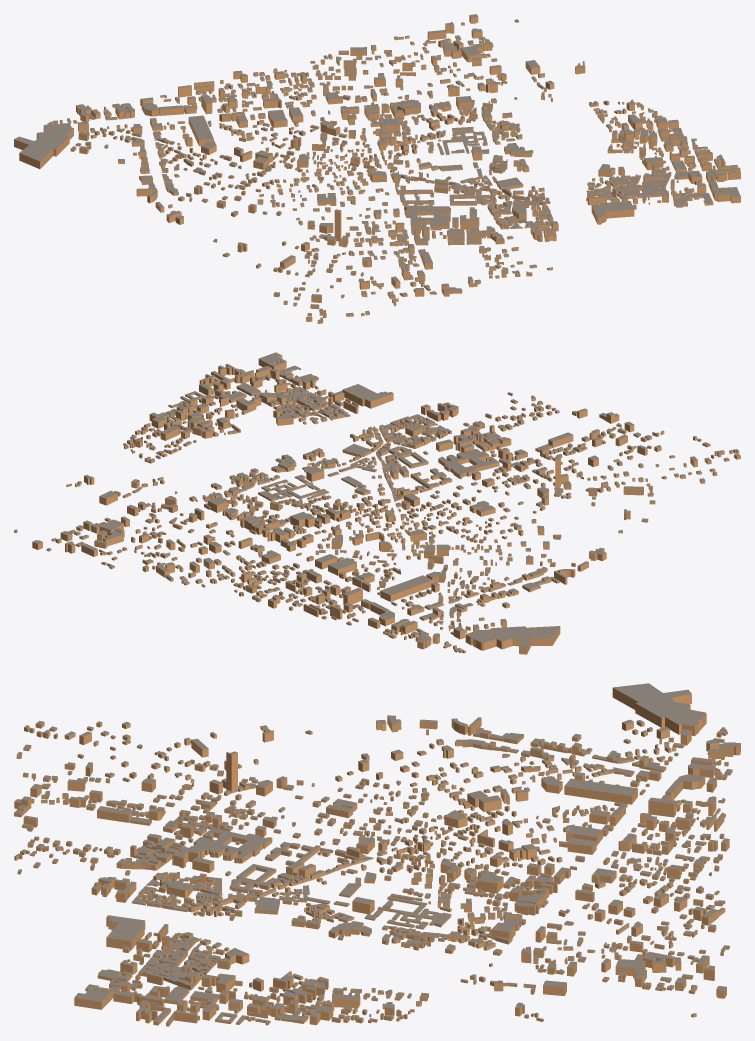
Rendered from EscenarioDSJ-build.fbx.
3 renders of one model, top to bottom at view 1: azimuth 30°, elevation 25°; view 2: azimuth 150°, elevation 25°; view 3: azimuth 270°, elevation 25°, orthographic. The views are drawn at different scales.
Parts seen in each view (by area): view 1: map_6.osm_buildings; view 2: map_6.osm_buildings; view 3: map_6.osm_buildings.
Part boxes in pixels (box(x1,y1,x2,y2)): map_6.osm_buildings: box(14, 14, 740, 323); map_6.osm_buildings: box(14, 352, 740, 654); map_6.osm_buildings: box(14, 683, 740, 1026).
Bounding box in the file's own units: 8152 × 442 × 7511.
